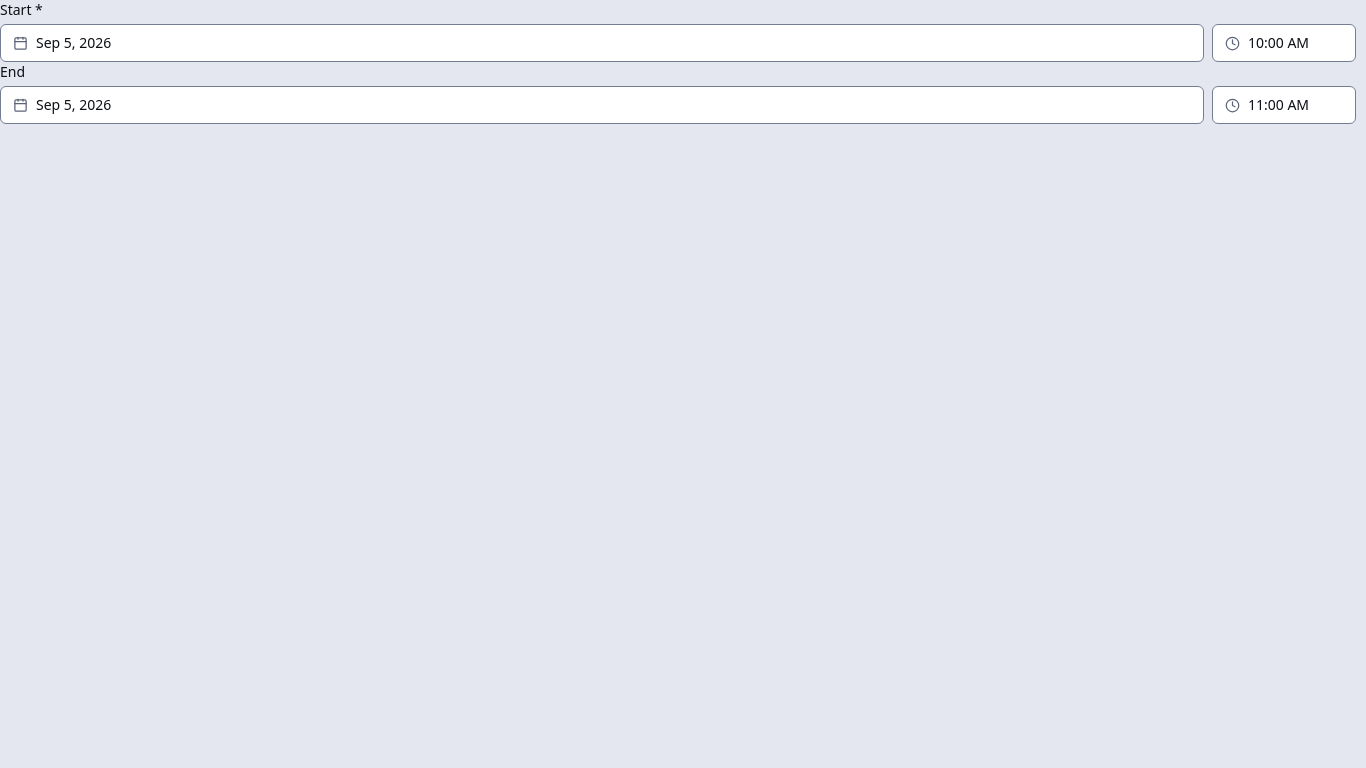
Test case: DateTimeRangeFields › leaves an end day picked before the start day as picked, and says why
This screenshot has width=1366, height=768.
Step 1. Click the button named "End Sep 5" → (74, 104), box x1=0 y1=86 x2=1204 y2=124
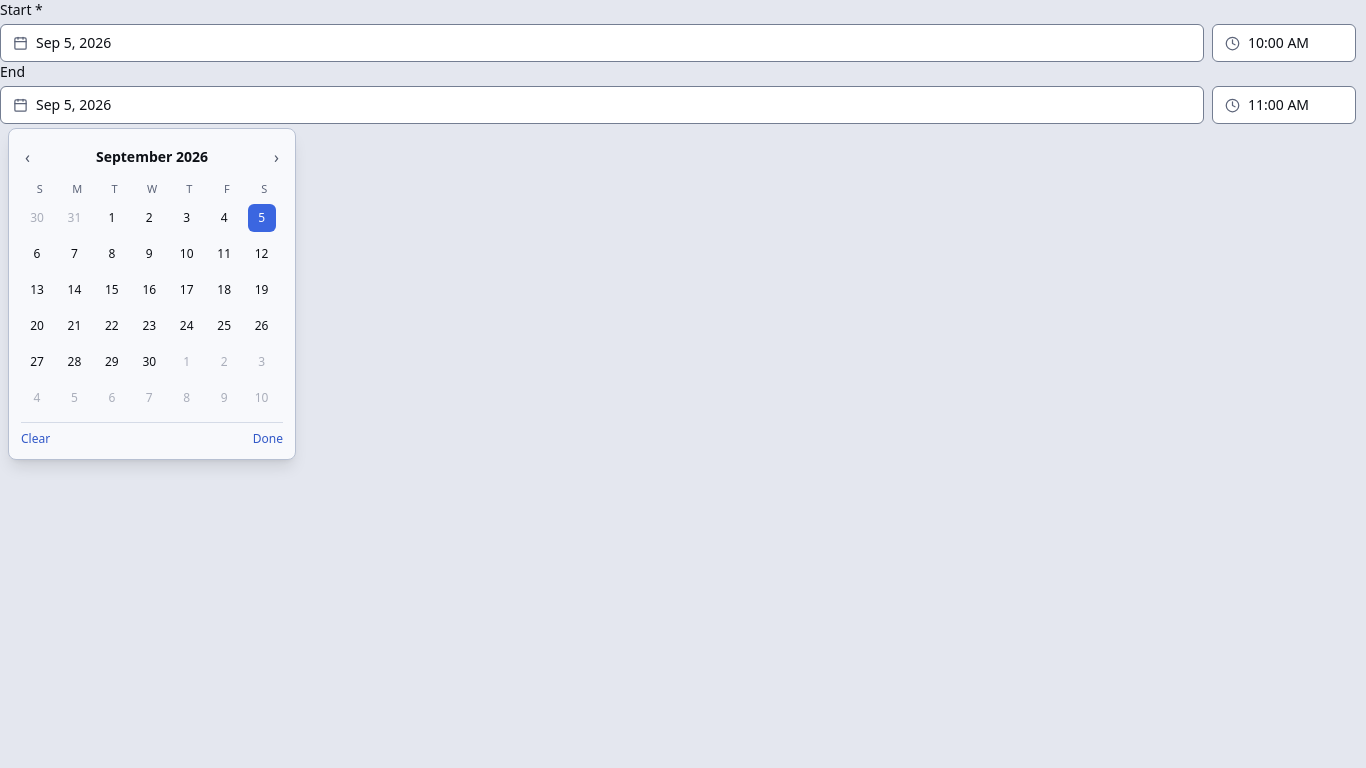
Step 2. Click the 1st button "3" → (187, 218), box x1=173 y1=204 x2=201 y2=232
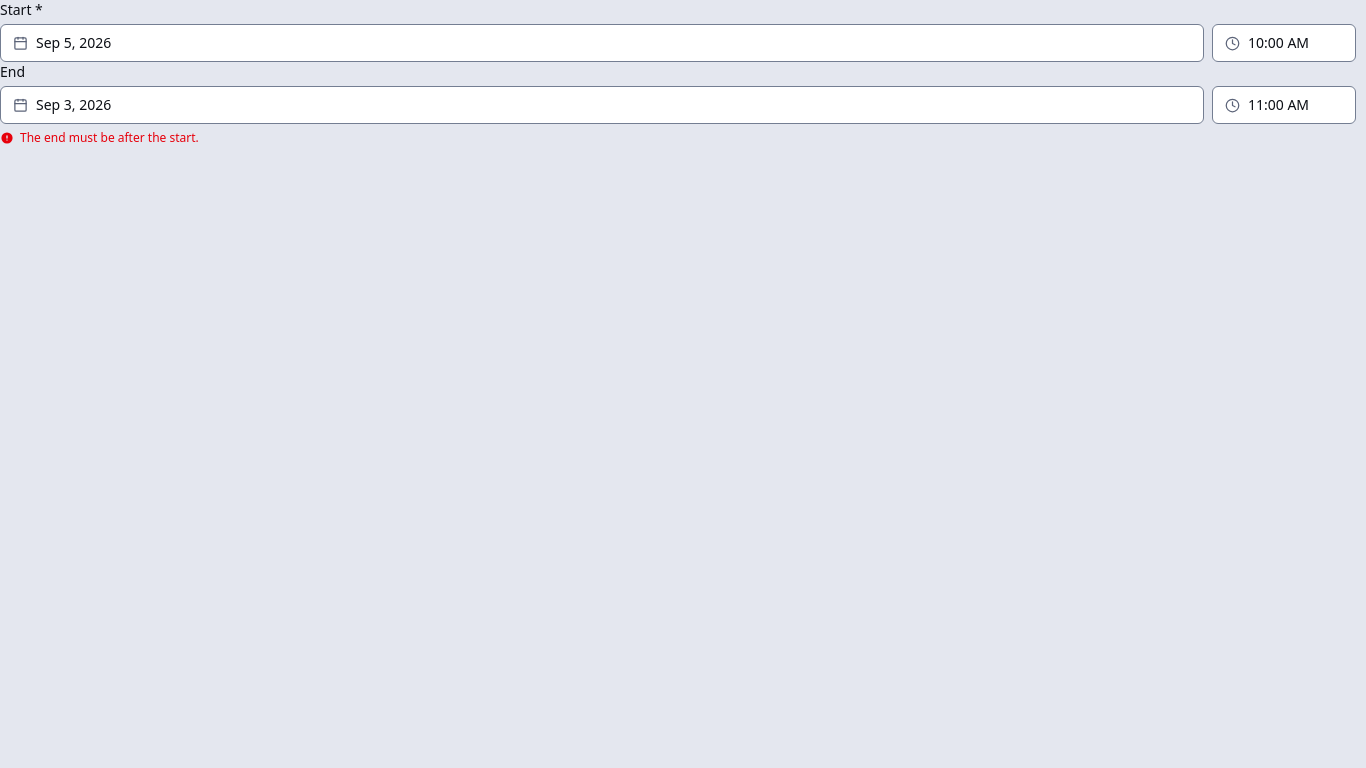
Expected: the text "The end must be after the start." is shown, x1=20 y1=130 x2=199 y2=146
